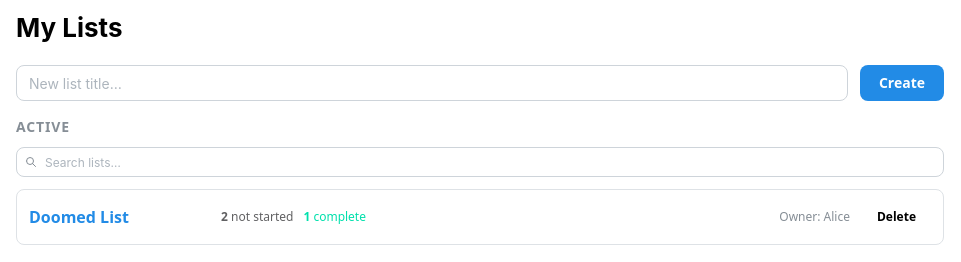
Test: ListsPage › removes a deleted list from the UI
The image size is (961, 262).
Click the button "Delete". click: (896, 217)
box: [862,202,931,232]
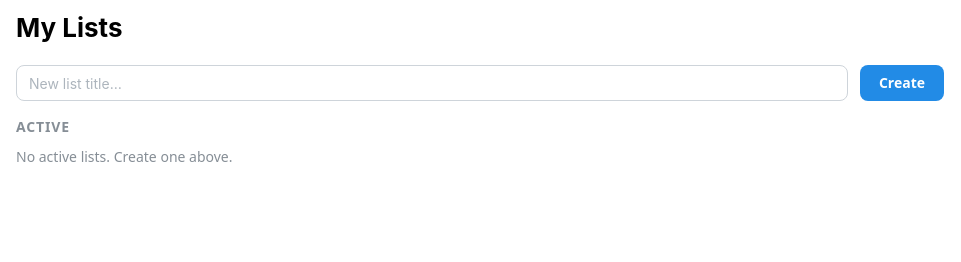
Now the link "Doomed List" is gone
